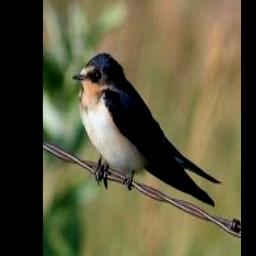Swallow: (71, 48, 221, 214)
